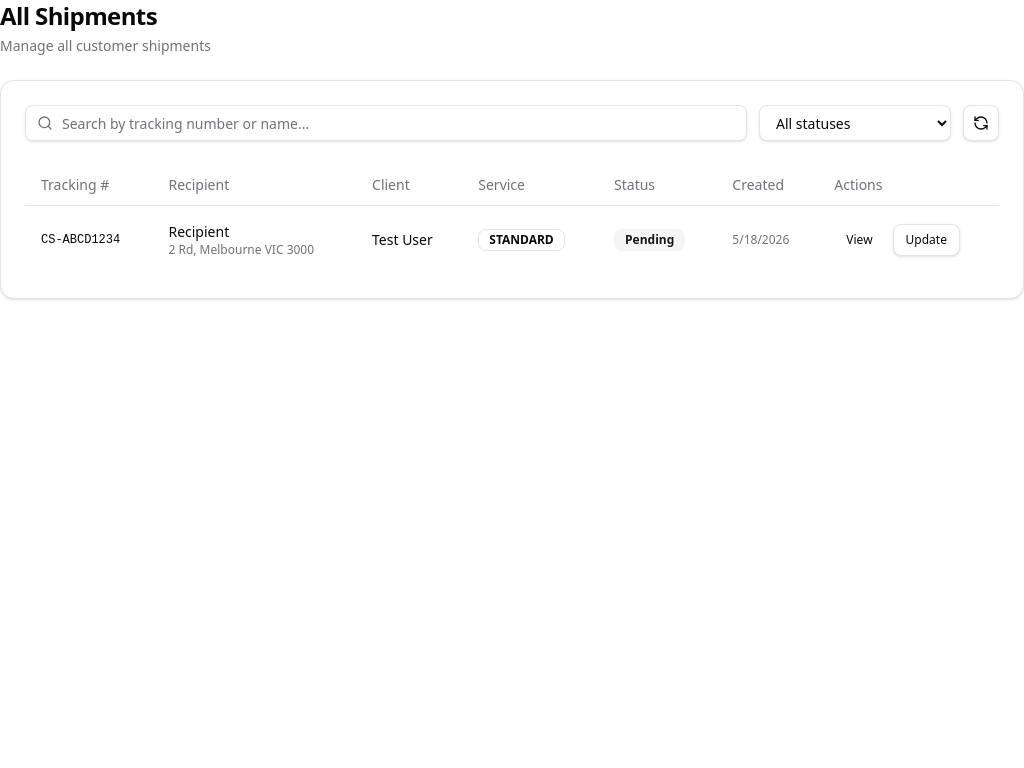
Test: DashboardPage › closes admin update dialog on Cancel
This screenshot has width=1024, height=768.
Click the button "Update" at (926, 240), box [893, 224, 960, 256]
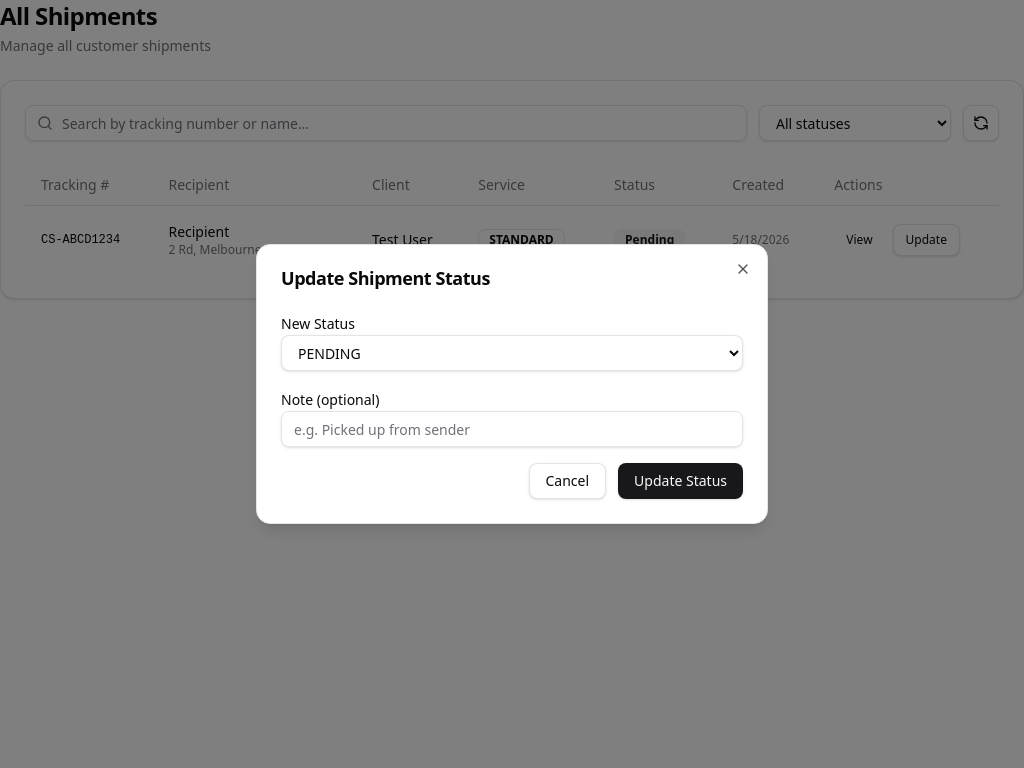
Click the button "Cancel" at (567, 481), box [528, 463, 606, 499]
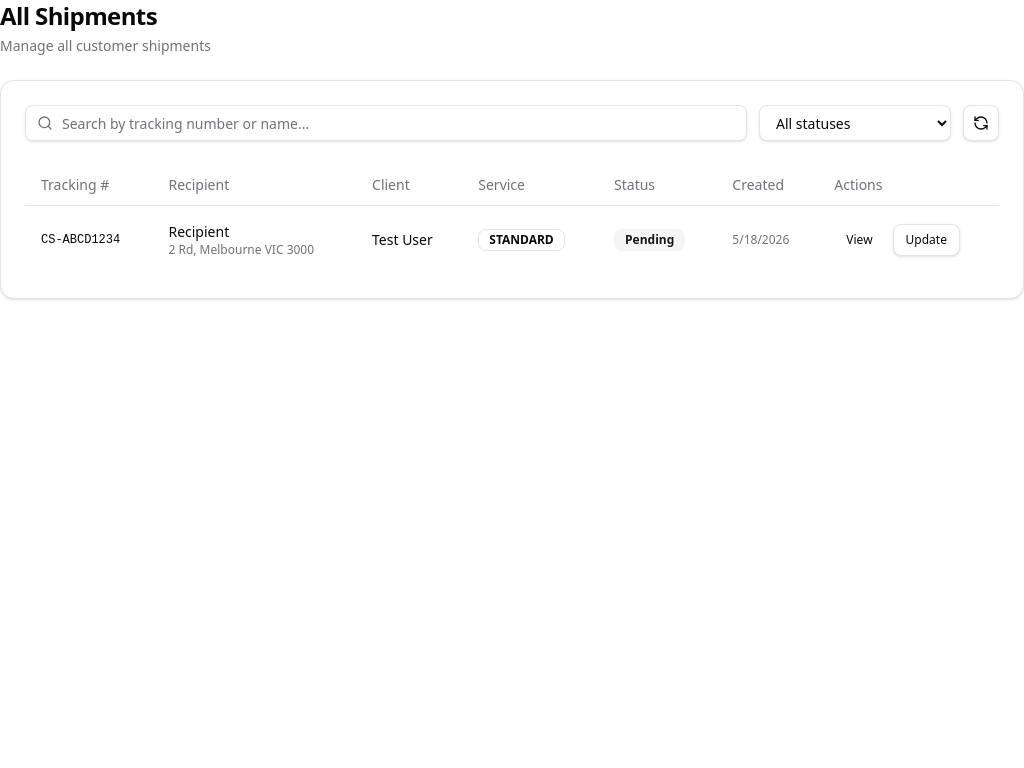
Now the heading "Update Shipment Status" is gone
